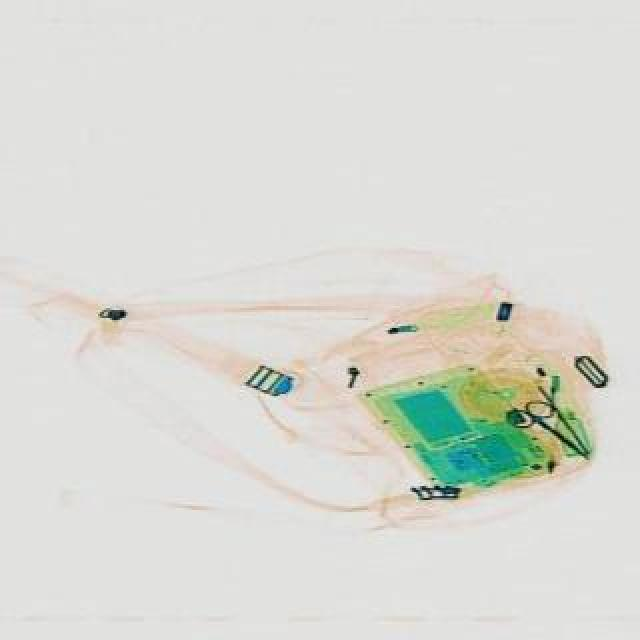pliers: (498, 388, 596, 474)
